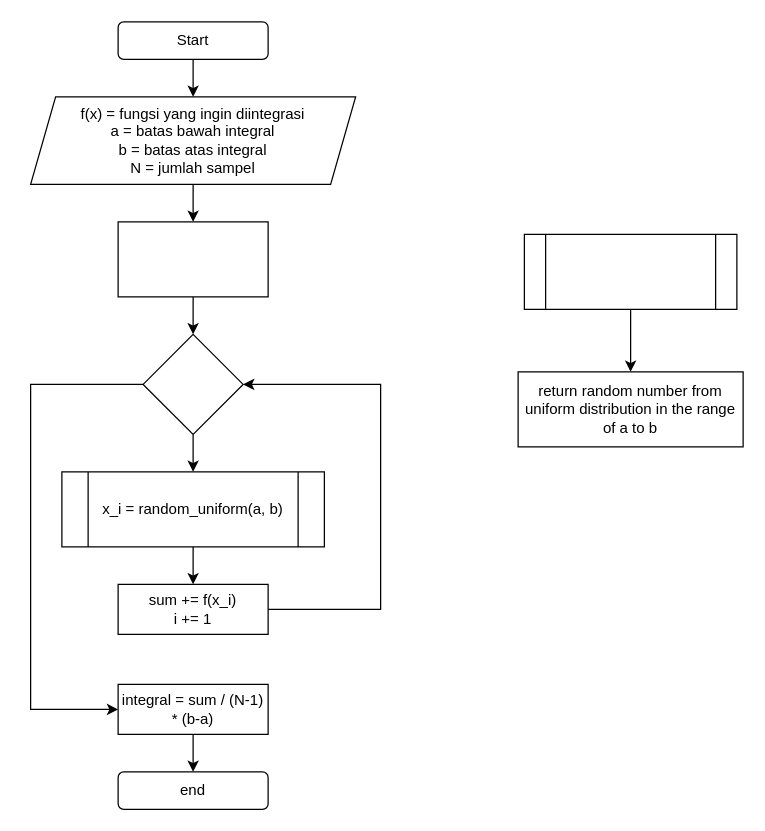
The diagram is 765 pixels wide and 831 high, and some of its shapes have lost their labels. The shapes that lost their labels are listed below. From the top down, each one's centre as x and y in pixels, then its label:
point (192, 259): sum = 0 i = 0
point (630, 271): random_uniform(a, b)
point (192, 383): i < n
